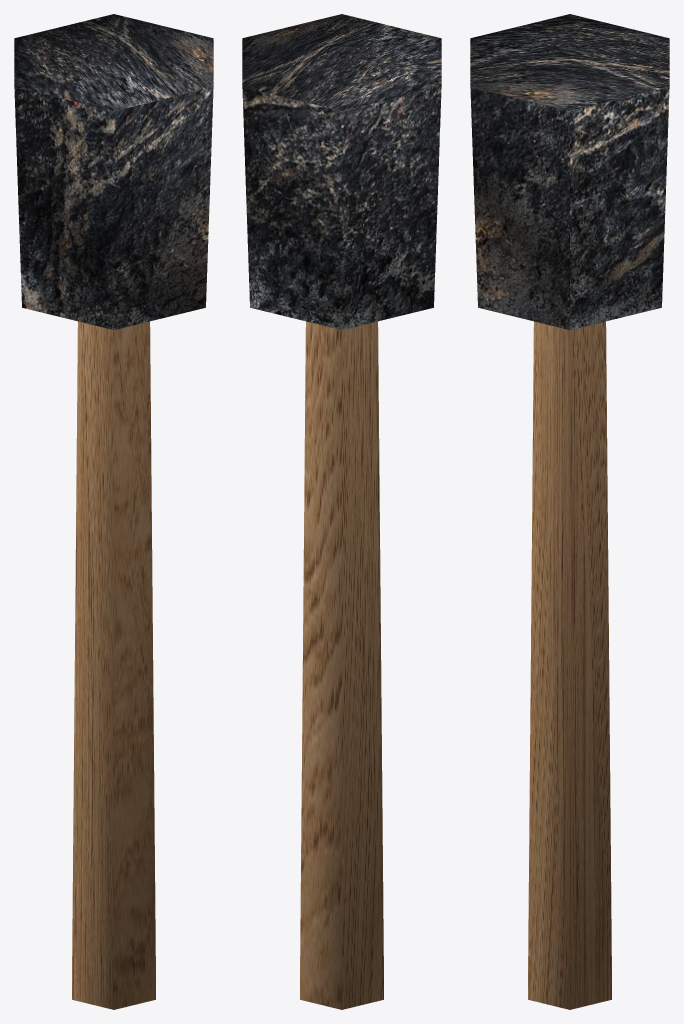
Rendered from Torch.FBX.
3 renders of one model, left to right at view 1: azimuth 30°, elevation 25°; view 2: azimuth 150°, elevation 25°; view 3: azimuth 270°, elevation 25°, orthographic.
Parts seen in each view (by area): view 1: Capsule001; view 2: Capsule001; view 3: Capsule001.
Part boxes in pixels (<box>): Capsule001: <box>14,14,213,1009</box>; Capsule001: <box>242,14,441,1009</box>; Capsule001: <box>470,14,669,1009</box>.
Size of the model in its own units: 20.17 by 92.64 by 17.47.
Materials: 2 (2 with a texture image).
